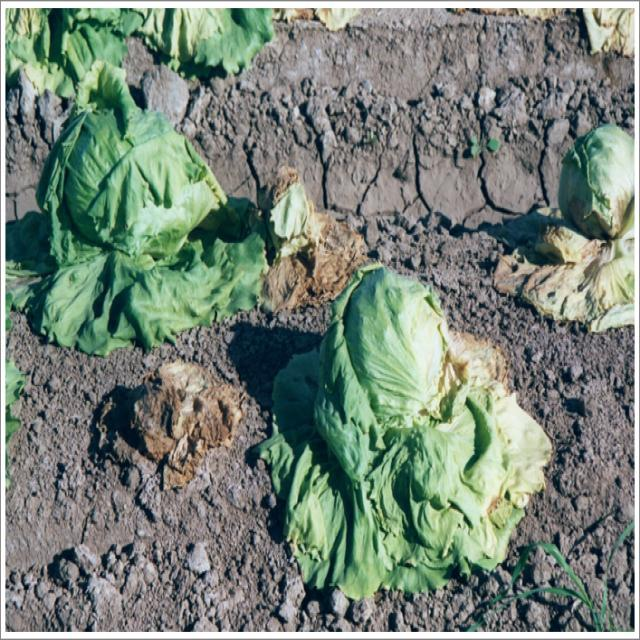Lettuce: (271, 256, 545, 594), (16, 73, 260, 341), (504, 120, 640, 333), (121, 352, 243, 496)
